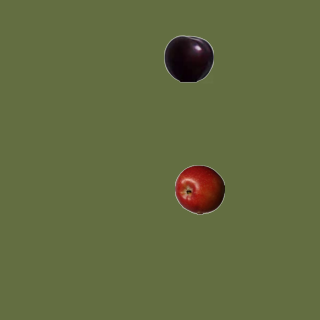Apple Braeburn: (174, 164, 224, 214)
Cherry Wax Black: (163, 33, 213, 83)
